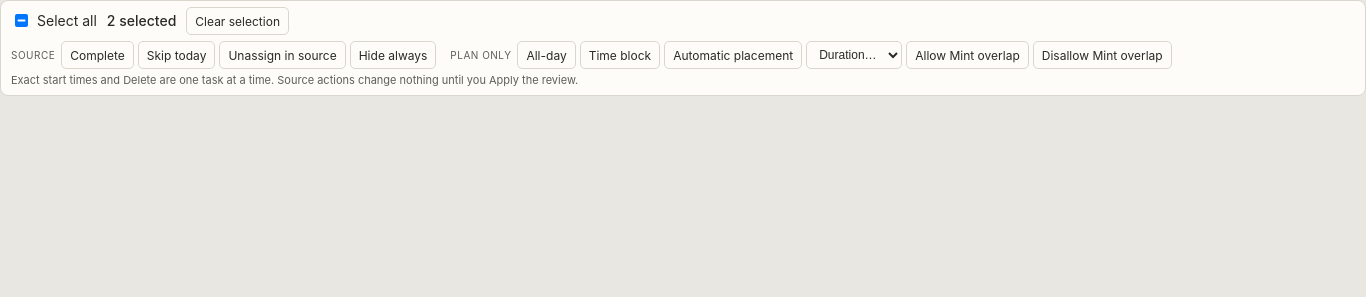
Test: results, retry, and undo › keeps successes on partial failure and Retry failed re-runs only the failure
Click the button "Complete".
click(98, 55)  # box [61,41,134,69]
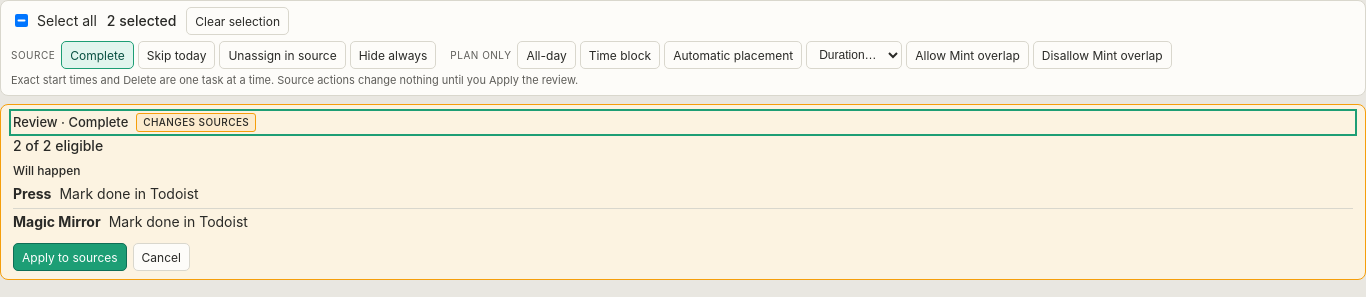
Click the button "Apply to sources".
click(70, 257)  # box [13,243,127,271]
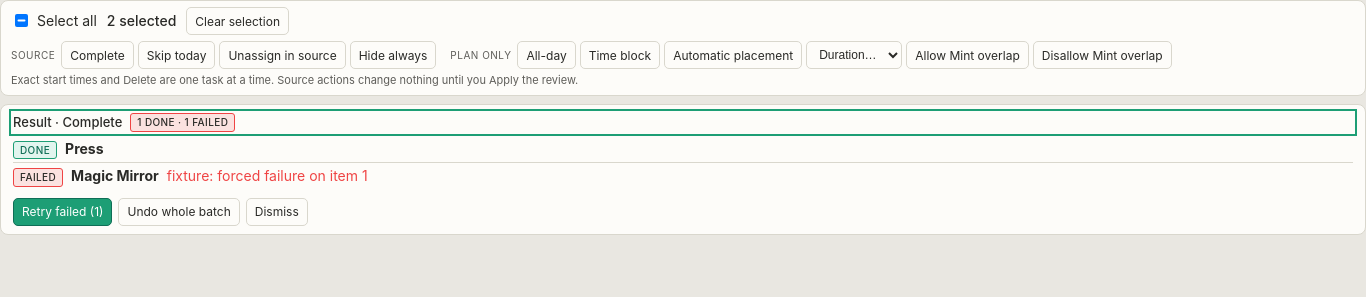
expect the list item "Failed Magic Mirror fixture: forced failure on item 1" is shown: met, box [13,162,1353,190]
Click the button "Retry failed (1)".
click(63, 212)  # box [13,198,112,226]
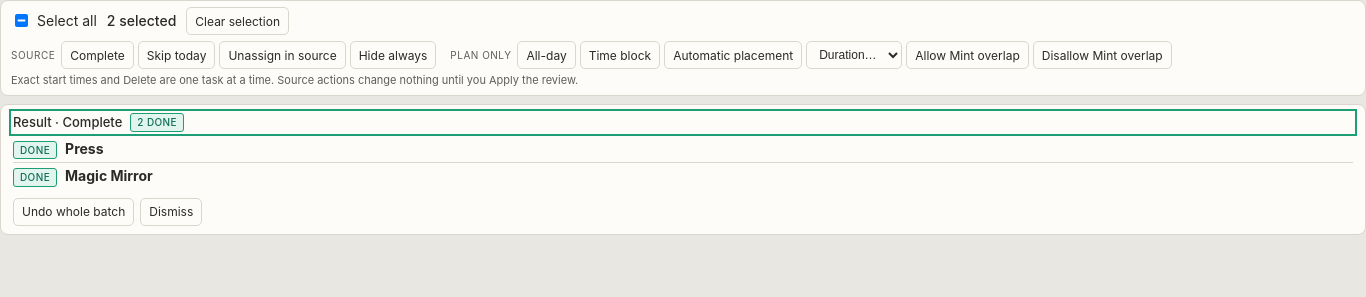
expect the text "Retry failed" is gone: met
